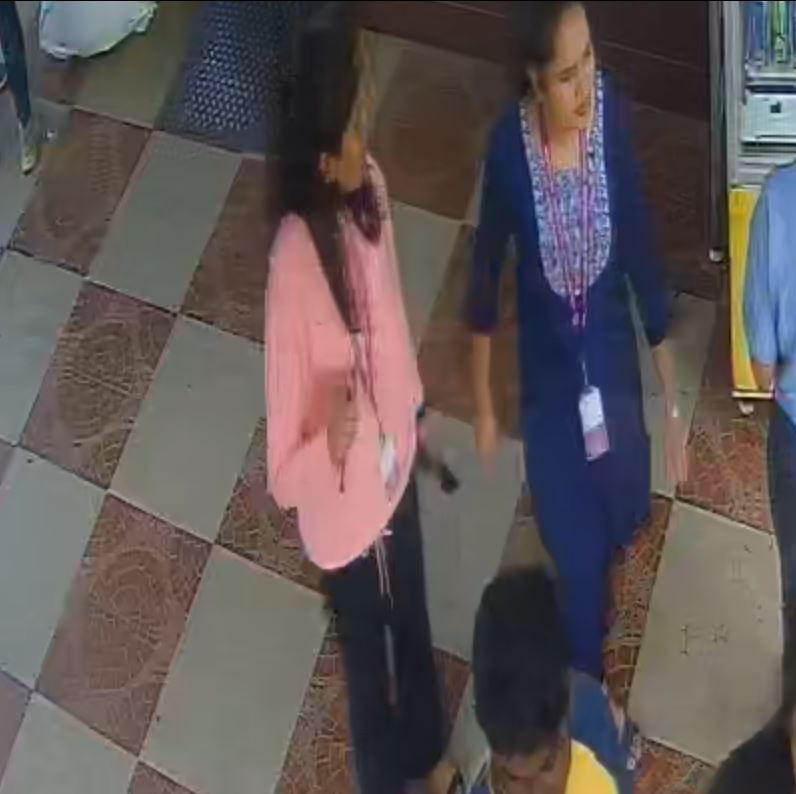intruder: (250, 25, 482, 794), (473, 5, 668, 710)
